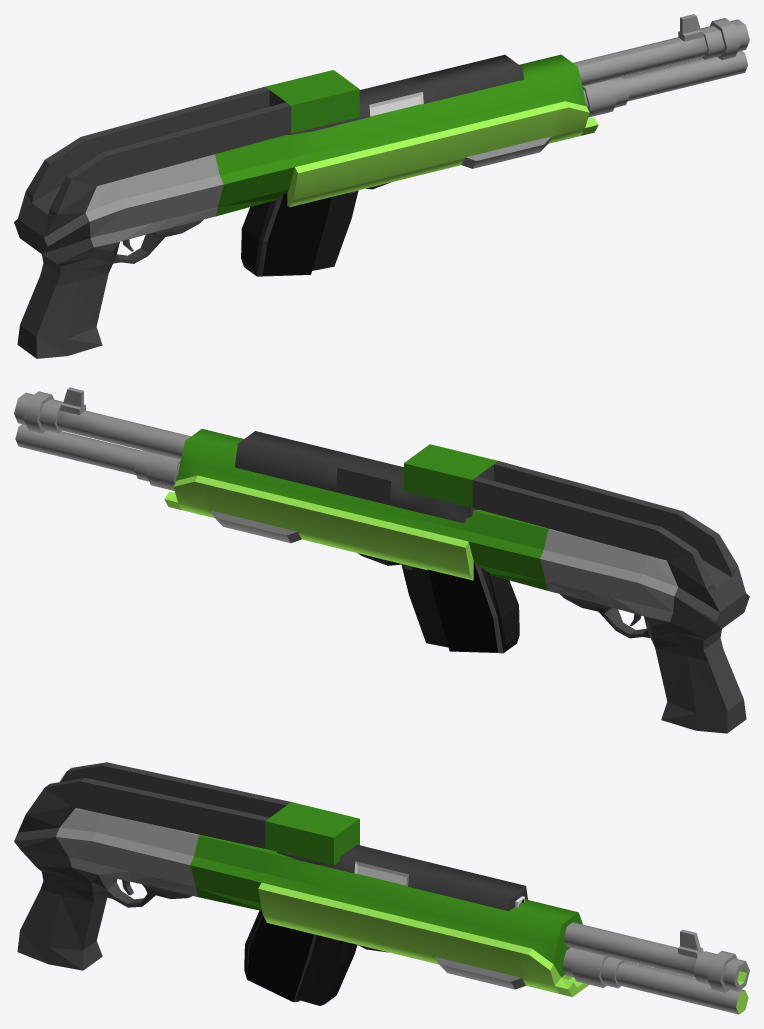
The model's file is Pistokl.FBX.
3 renders of one model, top to bottom at view 1: azimuth 30°, elevation 25°; view 2: azimuth 150°, elevation 25°; view 3: azimuth 330°, elevation 25°, orthographic.
Parts seen in each view (by area): view 1: Cylinder003, Cylinder004; view 2: Cylinder003, Cylinder004; view 3: Cylinder003, Cylinder004.
Part boxes in pixels (box(x1,y1,x2,y2)): Cylinder003: box(14, 14, 749, 358); Cylinder004: box(241, 54, 523, 276); Cylinder003: box(14, 387, 749, 733); Cylinder004: box(235, 431, 519, 653); Cylinder003: box(14, 762, 749, 1014); Cylinder004: box(244, 844, 527, 1005).
Size of the model in its own units: 261 by 25.49 by 69.66.
